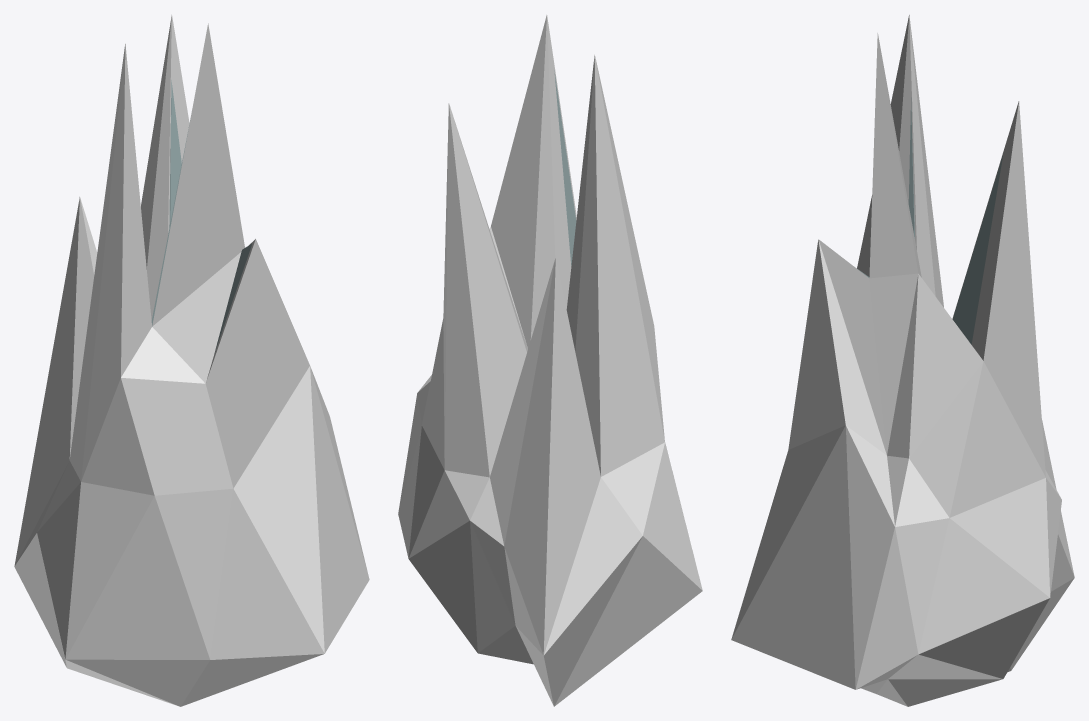
File: resource__surrounding__rock-4.fbx
3 views of the same model, side by side, from view 1: azimuth 30°, elevation 25°; view 2: azimuth 150°, elevation 25°; view 3: azimuth 270°, elevation 25° (orthographic). The views are drawn at different scales.
Parts seen in each view (by area): view 1: Map_Surrounding_Rock_4; view 2: Map_Surrounding_Rock_4; view 3: Map_Surrounding_Rock_4.
Boxes of the visible parts, left/top/right/bottom form: Map_Surrounding_Rock_4: left=14, top=15, right=369, bottom=706; Map_Surrounding_Rock_4: left=398, top=15, right=702, bottom=706; Map_Surrounding_Rock_4: left=731, top=15, right=1074, bottom=706.
Bounding box in the file's own units: 833 × 1788 × 813.
